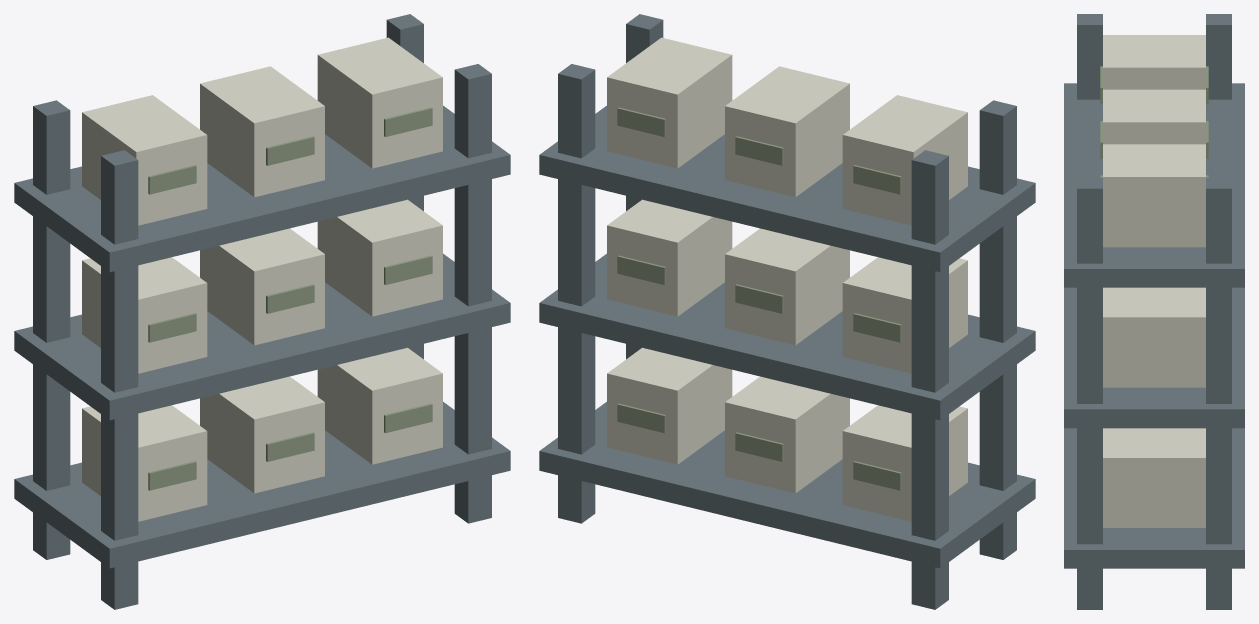
Rendered from zombie-quarantine-streets-medical-supply-rack-b6e25e37__19344.glb.
3 views of the same model, side by side, from view 1: azimuth 30°, elevation 25°; view 2: azimuth 150°, elevation 25°; view 3: azimuth 270°, elevation 25° (orthographic). The views are drawn at different scales.
Parts seen in each view (by area): view 1: medical-supply-rack; view 2: medical-supply-rack; view 3: medical-supply-rack.
Part boxes in pixels (x1,y1,x2,y2): medical-supply-rack: [14, 14, 510, 609]; medical-supply-rack: [539, 14, 1035, 609]; medical-supply-rack: [1064, 14, 1244, 609].
Size of the model in its own units: 1.7 by 1.8 by 0.6999.
